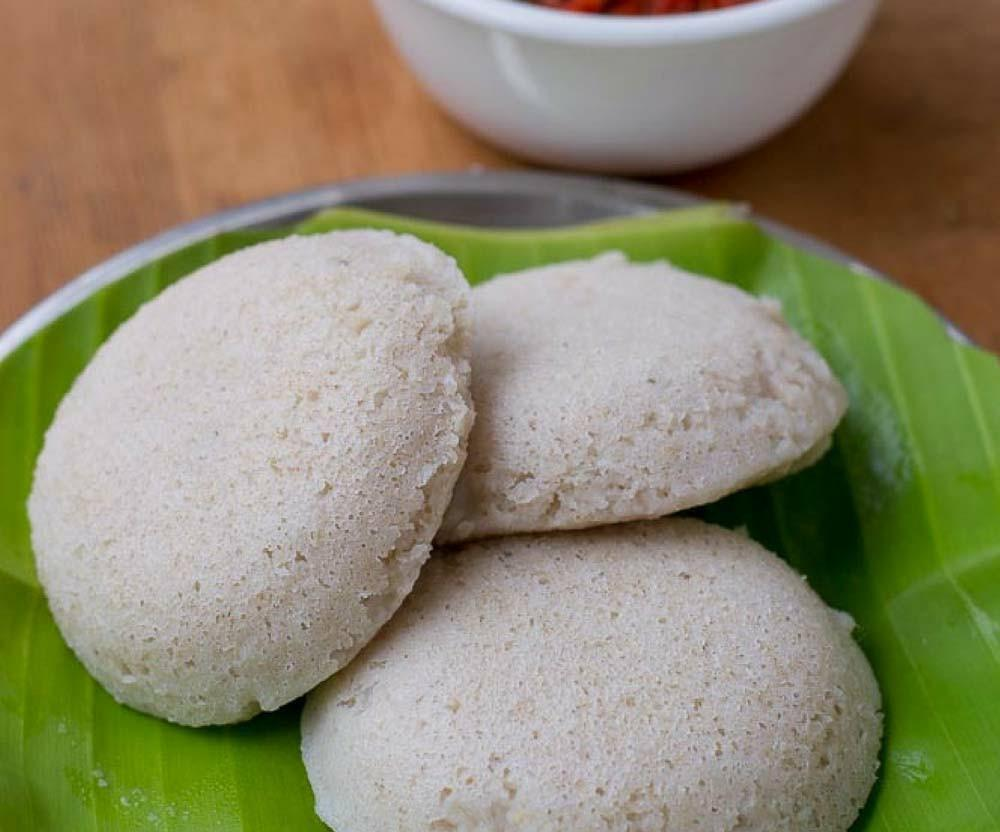Idli: (31, 226, 465, 726), (301, 518, 883, 832), (403, 259, 849, 531)
